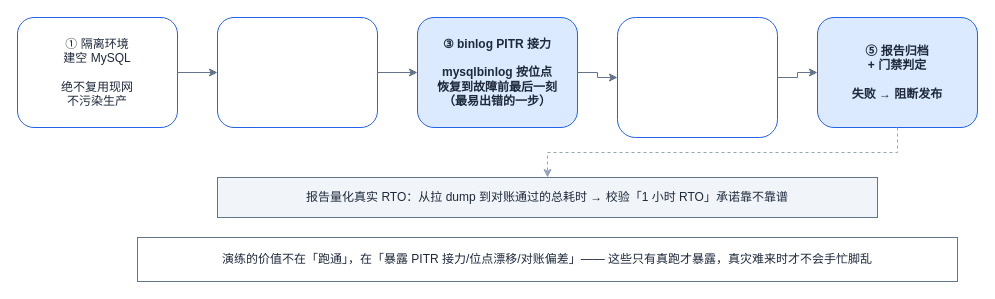
The diagram is 995 pixels wide and 299 high, and some of its shapes have lost their labels. The shapes that lost their labels are listed below. From the top down, each one's centre as x and y in pixels, then its label:
At (297,72): "② 全量 dump 恢复 mysql < dump.sql.gz 验证快照没损坏".
At (697,77): "④ 关键表对账 SELECT COUNT(*) FROM users/orders/... 验证与现网一致".
